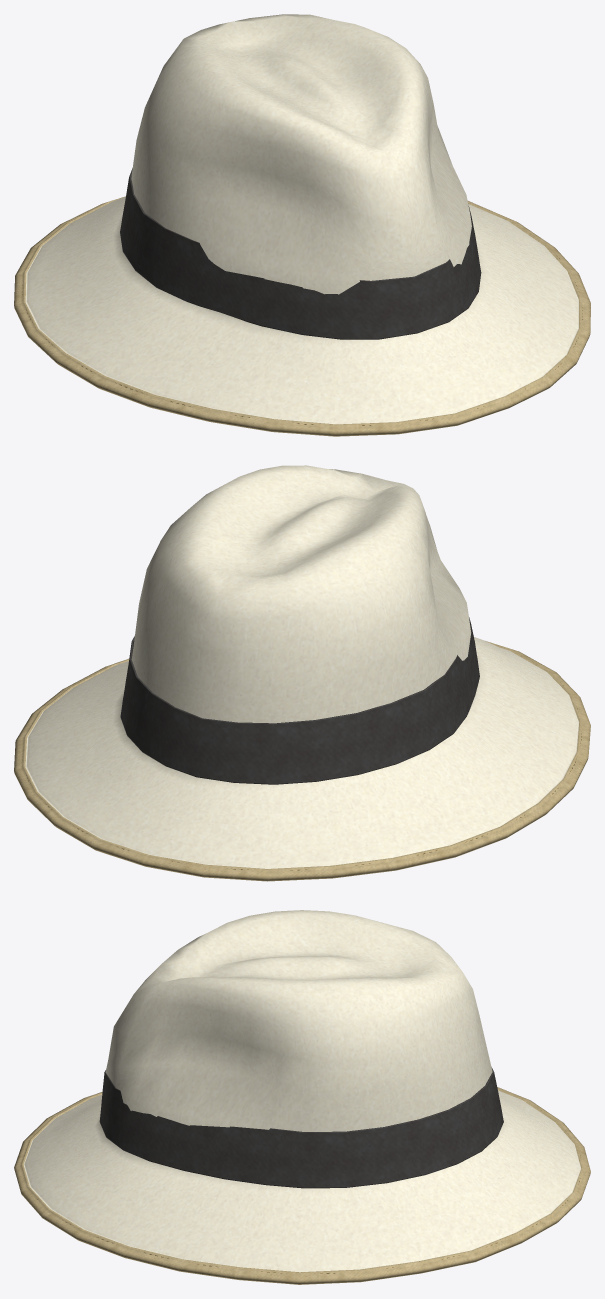
The model's file is Fedora.gltf.
3 renders of one model, top to bottom at view 1: azimuth 30°, elevation 25°; view 2: azimuth 150°, elevation 25°; view 3: azimuth 270°, elevation 25°, orthographic. The views are drawn at different scales.
Parts seen in each view (by area): view 1: Hat; view 2: Hat; view 3: Hat.
Part boxes in pixels (x1=…): Hat: x1=14, y1=14, x2=590, y2=436; Hat: x1=14, y1=465, x2=590, y2=881; Hat: x1=14, y1=910, x2=590, y2=1284.
Size of the model in its own units: 0.3015 by 0.1462 by 0.3342.
Materials: 1 (1 with a texture image).
